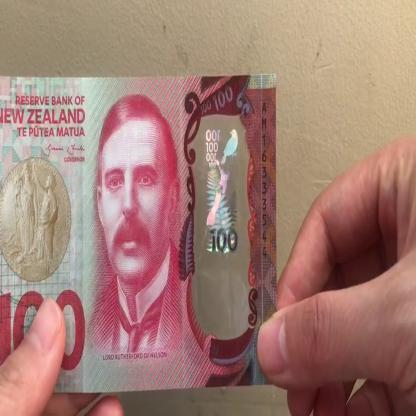100F: (202, 122, 246, 302)
